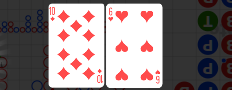10D: (97, 68, 104, 85)
5H: (155, 69, 161, 85)
